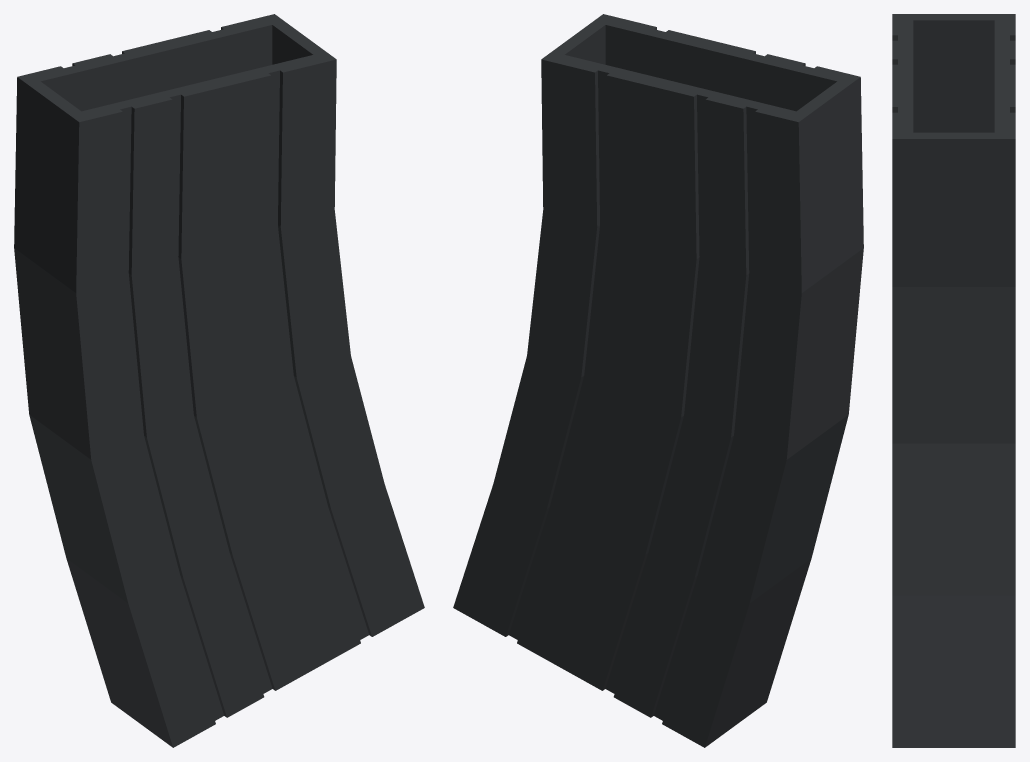
Rendered from AssaultRifle5_06_2.fbx.
3 views of the same model, side by side, from view 1: azimuth 30°, elevation 25°; view 2: azimuth 150°, elevation 25°; view 3: azimuth 270°, elevation 25° (orthographic).
Visible parts, largest first — view 1: AssaultRifle5_06_2; view 2: AssaultRifle5_06_2; view 3: AssaultRifle5_06_2.
Part boxes in pixels (box(x1,y1,x2,y2)): AssaultRifle5_06_2: box(14, 14, 424, 747); AssaultRifle5_06_2: box(453, 14, 863, 747); AssaultRifle5_06_2: box(892, 14, 1015, 747).
Bounding box in the file's own units: 0.0878 × 0.1561 × 0.0271.
